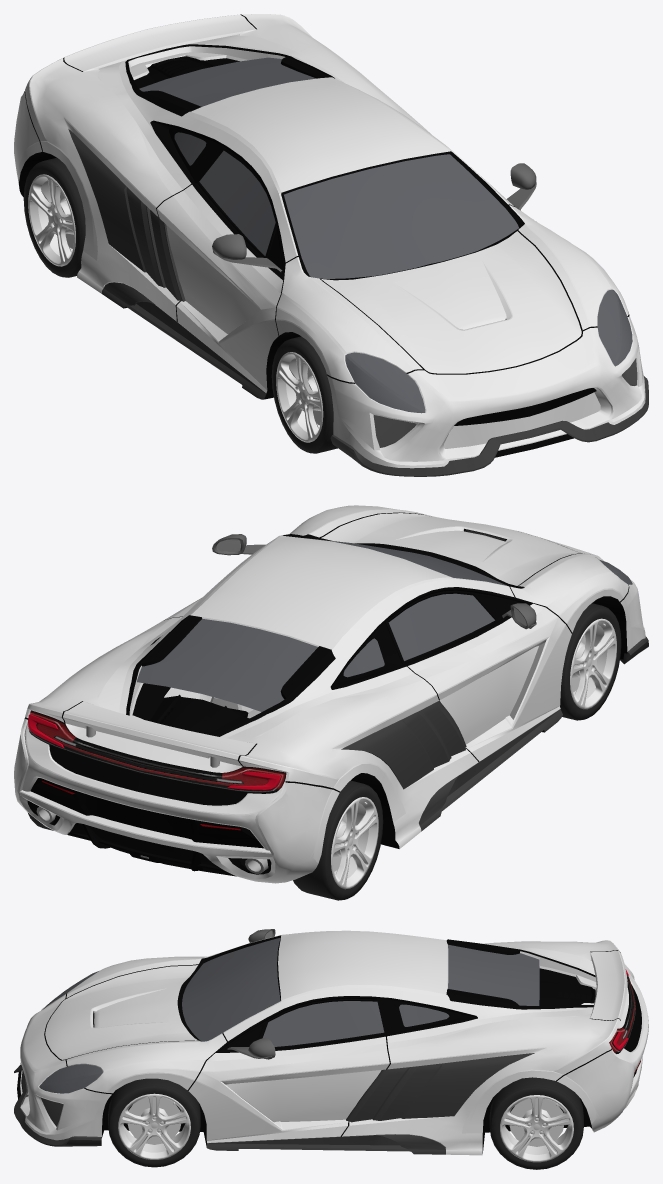
The model's file is McLaren MP4-12C R-Type.fbx.
3 views of the same model, one above another, from view 1: azimuth 30°, elevation 25°; view 2: azimuth 150°, elevation 25°; view 3: azimuth 270°, elevation 25° (orthographic). The views are drawn at different scales.
Visible parts, largest first — view 1: C_McLoud_Body_01_0, C_McLoud_FrontGlass_01_0, C_McLoud_CarbonParts_01_0, C_McLoud_Underbody_01_0, mp412crim002.000, mp412crim002.002, C_McLoud_HeadlightGlass_01_0, C_Nister_Rearview_01 (1)_0, C_McLoud_TailLights_01_0; view 2: C_McLoud_Body_01_0, C_McLoud_Underbody_01_0, C_McLoud_FrontGlass_01_0, C_McLoud_CarbonParts_01_0, C_McLoud_TailLights_01_0, mp412crim002.000, mp412crim002.002, C_Nister_Rearview_01 (1)_0, C_McLoud_ChromeParts_01_0; view 3: C_McLoud_Body_01_0, C_McLoud_FrontGlass_01_0, C_McLoud_CarbonParts_01_0, C_McLoud_Underbody_01_0, mp412crim002.001, mp412crim002.003, C_McLoud_HeadlightGlass_01_0, C_McLoud_TailLights_01_0, C_Nister_Rearview_01 (1)_0.
Boxes of the visible parts, left/top/right/bottom form: C_McLoud_Body_01_0: left=14, top=14, right=645, bottom=468; C_McLoud_FrontGlass_01_0: left=139, top=57, right=518, bottom=278; C_McLoud_CarbonParts_01_0: left=68, top=129, right=648, bottom=476; C_McLoud_Underbody_01_0: left=19, top=14, right=629, bottom=457; mp412crim002.000: left=23, top=157, right=85, bottom=277; mp412crim002.002: left=271, top=336, right=337, bottom=453; C_McLoud_HeadlightGlass_01_0: left=345, top=289, right=632, bottom=413; C_Nister_Rearview_01 (1)_0: left=212, top=163, right=536, bottom=271; C_McLoud_TailLights_01_0: left=373, top=358, right=637, bottom=447; C_McLoud_Body_01_0: left=14, top=505, right=645, bottom=883; C_McLoud_Underbody_01_0: left=24, top=512, right=629, bottom=876; C_McLoud_FrontGlass_01_0: left=136, top=538, right=507, bottom=711; C_McLoud_CarbonParts_01_0: left=341, top=636, right=648, bottom=831; C_McLoud_TailLights_01_0: left=28, top=528, right=545, bottom=858; mp412crim002.000: left=293, top=780, right=383, bottom=900; mp412crim002.002: left=560, top=603, right=621, bottom=720; C_Nister_Rearview_01 (1)_0: left=212, top=534, right=536, bottom=629; C_McLoud_ChromeParts_01_0: left=36, top=726, right=268, bottom=873; C_McLoud_Body_01_0: left=20, top=930, right=648, bottom=1155; C_McLoud_FrontGlass_01_0: left=182, top=938, right=539, bottom=1046; C_McLoud_CarbonParts_01_0: left=14, top=1053, right=534, bottom=1154; C_McLoud_Underbody_01_0: left=17, top=935, right=641, bottom=1153; mp412crim002.001: left=489, top=1077, right=583, bottom=1169; mp412crim002.003: left=108, top=1078, right=200, bottom=1167; C_McLoud_HeadlightGlass_01_0: left=39, top=971, right=102, bottom=1093; C_McLoud_TailLights_01_0: left=41, top=969, right=640, bottom=1126; C_Nister_Rearview_01 (1)_0: left=227, top=929, right=275, bottom=1059.
Size of the model in its own units: 210 by 126 by 456.
23 materials, 5 textured.
